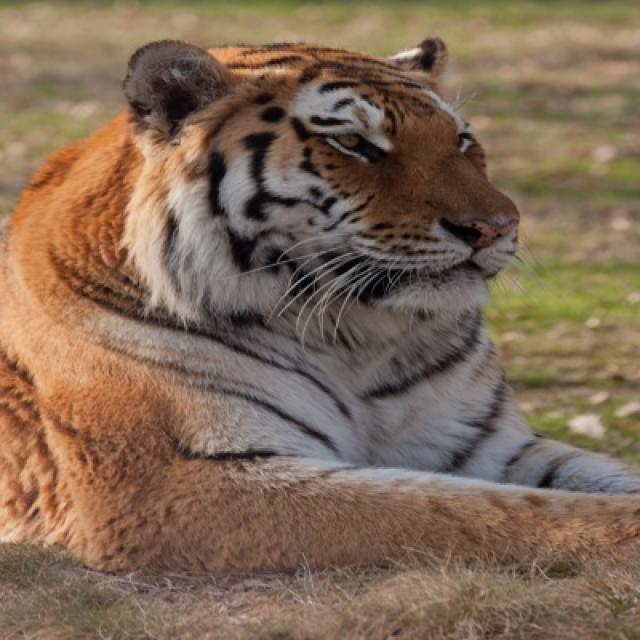Tiger: (0, 38, 638, 571)
